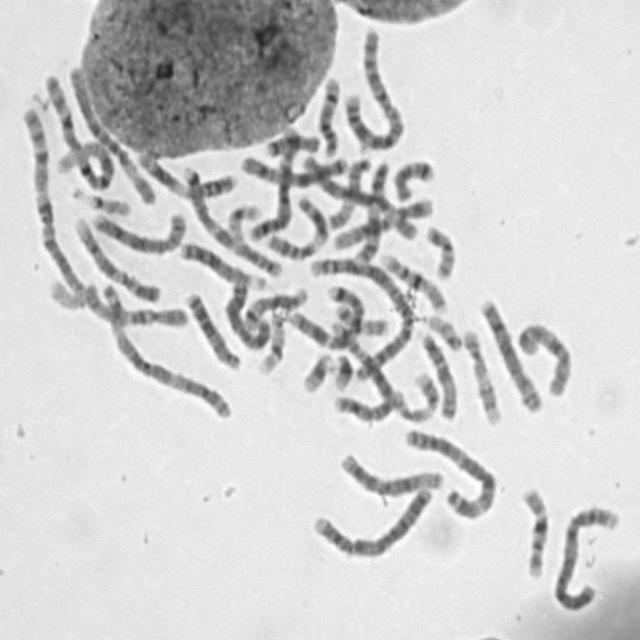A1: (17, 100, 89, 308), (41, 67, 118, 192)
A2: (305, 248, 417, 385), (340, 25, 407, 153)
A3: (93, 272, 236, 422), (399, 422, 500, 521)
B4: (307, 480, 434, 561), (550, 499, 623, 613)
B5: (314, 319, 395, 418), (243, 121, 300, 243)
C10: (80, 278, 192, 332), (514, 316, 574, 399)
C11: (133, 145, 239, 201), (262, 192, 331, 262)
C12: (329, 193, 435, 252), (337, 448, 444, 497)
C6: (63, 61, 158, 208), (296, 149, 424, 241)
C7: (180, 160, 286, 280), (286, 282, 366, 352)
C8: (476, 292, 547, 416), (87, 206, 190, 256)
C9: (70, 210, 163, 304), (349, 154, 393, 267)
D13: (181, 286, 243, 372), (176, 236, 264, 288)
D14: (239, 284, 309, 332), (314, 72, 343, 158)
D15: (326, 152, 375, 233), (418, 326, 458, 422)
E16: (376, 247, 451, 314), (518, 482, 552, 580)
E17: (458, 323, 503, 426), (390, 369, 440, 424)
E18: (389, 153, 437, 202), (263, 127, 322, 159)
F19: (254, 306, 288, 376), (225, 199, 265, 243)
F20: (330, 299, 390, 338), (421, 219, 457, 280)
G21: (299, 347, 336, 395), (328, 347, 356, 391)
G22: (70, 184, 133, 218), (423, 308, 464, 352)
X: (239, 150, 352, 189), (221, 272, 272, 351)
